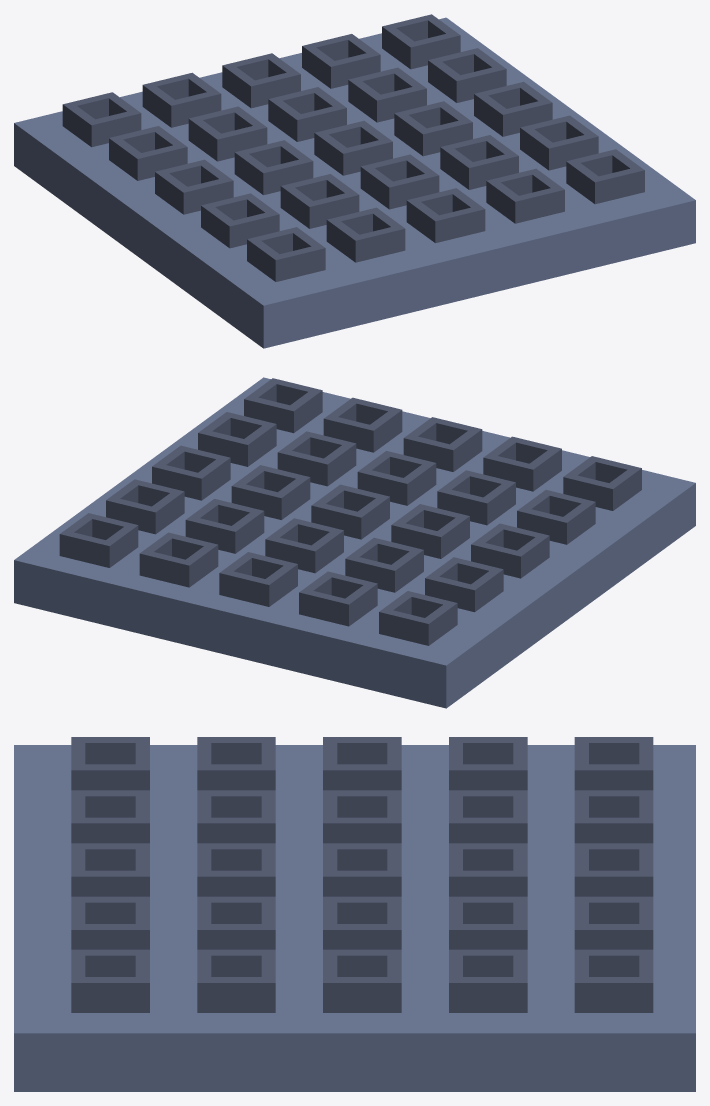
File: spikes floor.fbx
The picture shows the model from 3 angles, top to bottom: view 1: azimuth 30°, elevation 25°; view 2: azimuth 150°, elevation 25°; view 3: azimuth 270°, elevation 25°; orthographic projection. The views are drawn at different scales.
Parts seen in each view (by area): view 1: spikes floor; view 2: spikes floor; view 3: spikes floor.
Boxes of the visible parts, x1,y1,x2,y2 form: spikes floor: (14, 14, 695, 348); spikes floor: (14, 377, 695, 708); spikes floor: (14, 737, 695, 1091).
Size of the model in its own units: 200 by 28.73 by 200.
